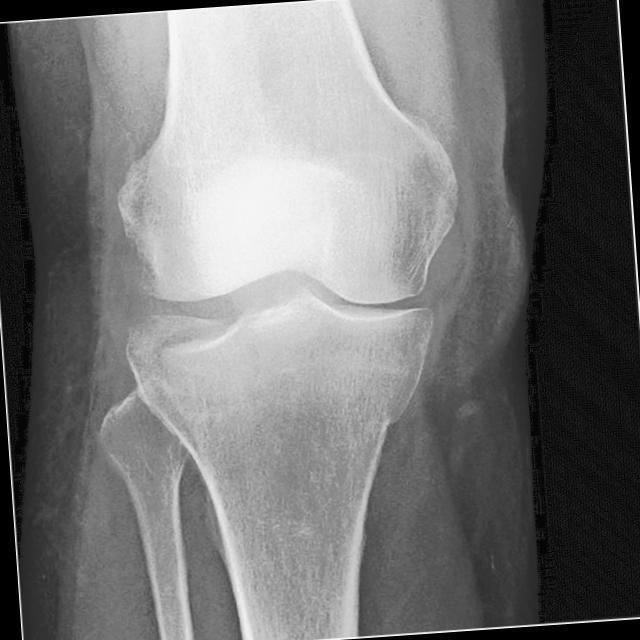Impact Fracture: (376, 400, 406, 437)
